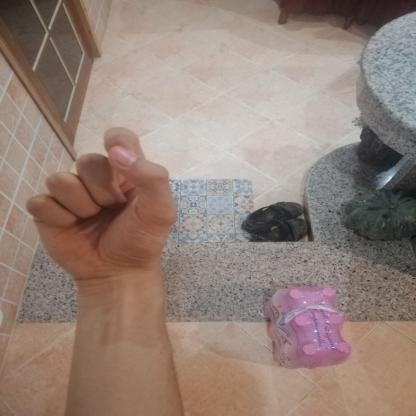FAA: (7, 116, 196, 296)
